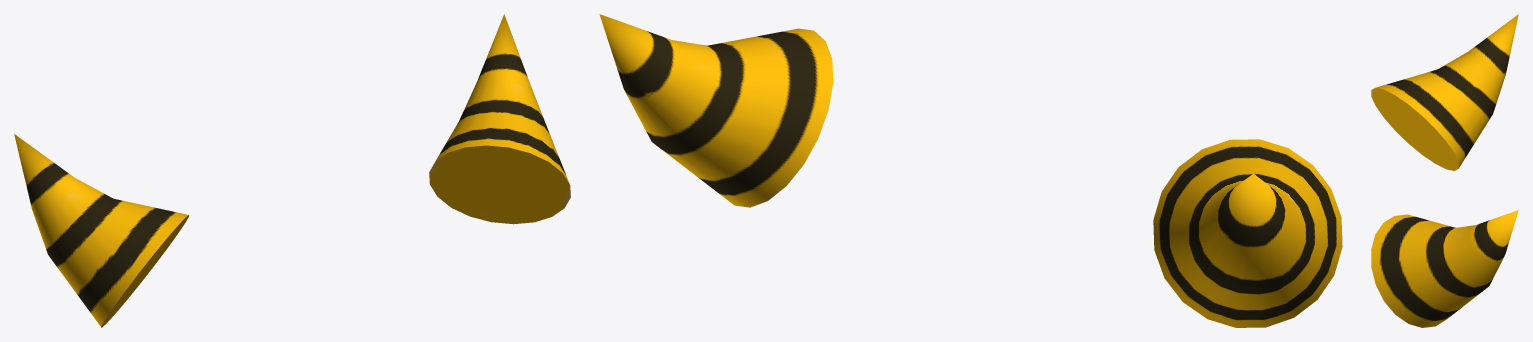
The model's file is Props_Horns.fbx.
3 views of the same model, side by side, from view 1: azimuth 30°, elevation 25°; view 2: azimuth 150°, elevation 25°; view 3: azimuth 270°, elevation 25° (orthographic). The views are drawn at different scales.
Parts seen in each view (by area): view 1: Horns; view 2: Horns; view 3: Horns.
Boxes of the visible parts, x1,y1,x2,y2 form: Horns: (14,14,570,327); Horns: (599,14,1342,327); Horns: (1371,14,1518,327).
Bounding box in the file's own units: 13.37 × 4.22 × 4.24.
